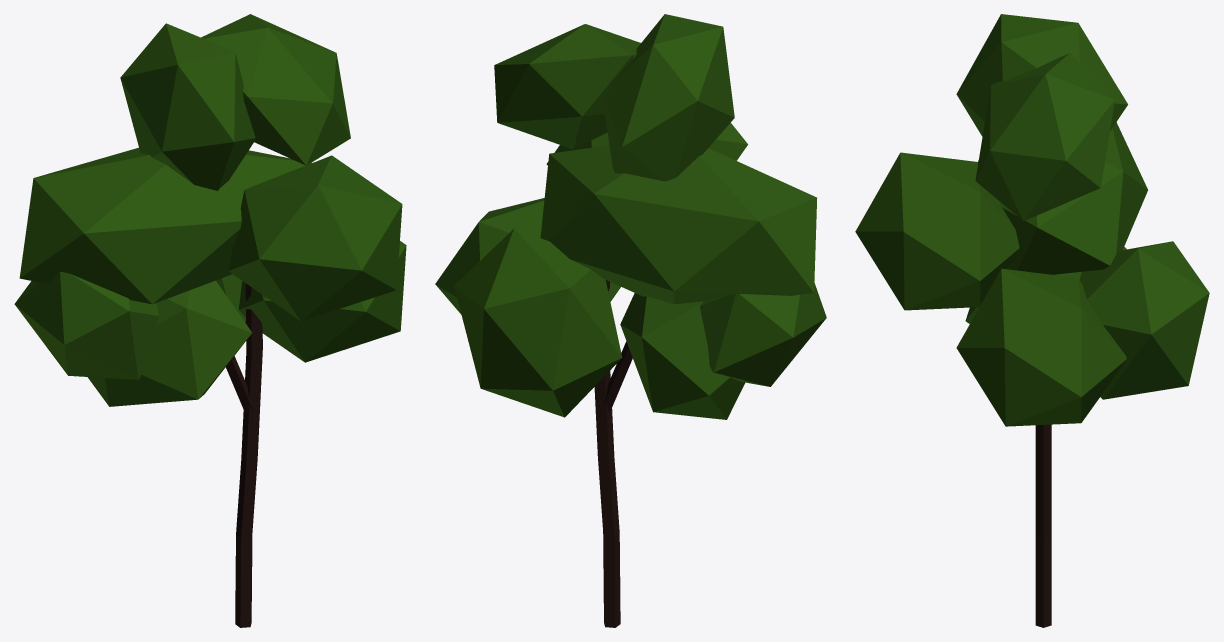
File: SM_tree_a_02.FBX
The picture shows the model from 3 angles, left to right: view 1: azimuth 30°, elevation 25°; view 2: azimuth 150°, elevation 25°; view 3: azimuth 270°, elevation 25°; orthographic projection. The views are drawn at different scales.
Visible parts, largest first — view 1: Object025; view 2: Object025; view 3: Object025.
Part boxes in pixels (x1=…): Object025: x1=14, y1=14, x2=406, y2=627; Object025: x1=435, y1=14, x2=826, y2=627; Object025: x1=855, y1=14, x2=1209, y2=627.
Bounding box in the file's own units: 333 × 522 × 292.
